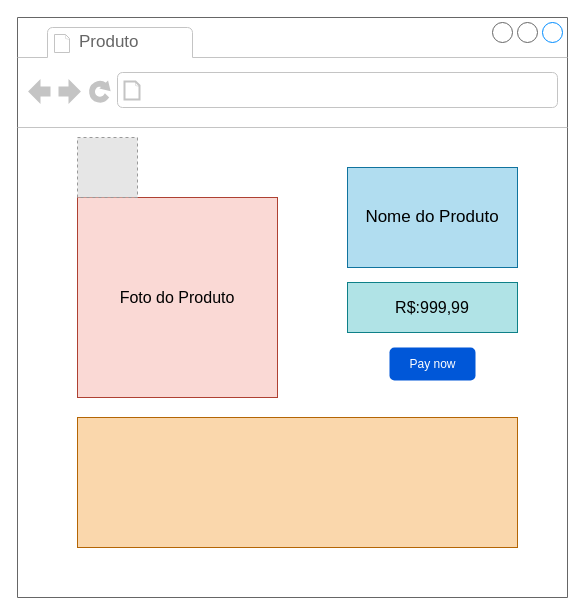
Image size: 585x615. Some labels were removed from this diagram. Grey dashed boxes stand in for pictures. Here are the shapes that lost their labels. From the top down, the centre of each, then its label:
At [272,90]: "https://www.ecommercecamisetas.com".
At [297,482]: "Descrição e Características".
